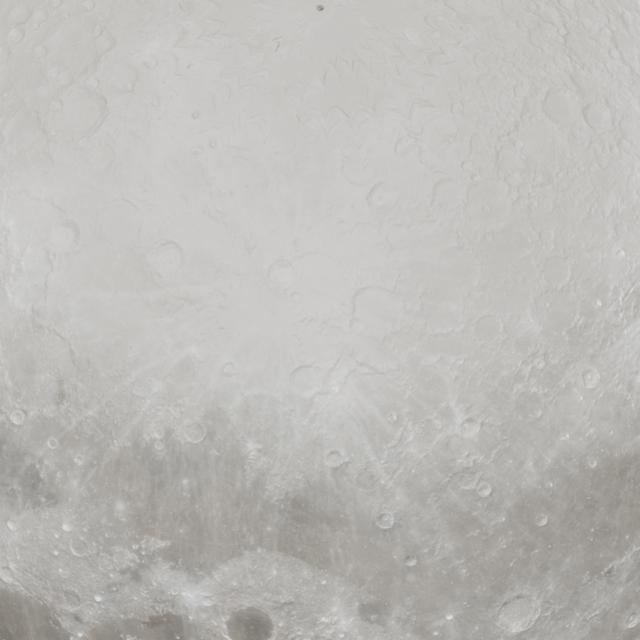crater: (539, 86, 580, 132), (493, 594, 538, 632), (146, 242, 186, 280), (288, 362, 331, 396), (227, 606, 270, 640), (581, 100, 616, 138), (541, 256, 575, 292), (493, 141, 526, 178), (47, 219, 80, 252), (427, 177, 459, 209), (266, 260, 296, 290), (365, 181, 395, 210), (472, 312, 502, 339), (393, 133, 421, 159), (131, 377, 156, 399), (183, 422, 207, 444), (458, 417, 481, 438), (324, 449, 347, 469), (459, 472, 483, 490), (420, 417, 441, 437), (68, 538, 89, 558), (375, 511, 396, 530), (594, 150, 613, 170), (7, 26, 26, 46), (582, 368, 600, 388), (8, 408, 28, 426), (348, 316, 367, 334), (45, 64, 62, 82), (512, 379, 530, 396), (63, 590, 82, 606), (140, 54, 158, 70), (85, 74, 102, 90), (527, 406, 544, 422), (30, 8, 47, 24), (32, 43, 48, 59), (48, 97, 64, 113), (476, 482, 492, 498), (42, 403, 58, 419), (221, 362, 237, 376), (460, 159, 476, 173), (404, 554, 419, 568), (470, 170, 484, 183), (534, 514, 548, 527), (80, 1, 96, 12), (73, 454, 86, 467), (46, 436, 59, 449), (153, 439, 166, 452), (7, 518, 20, 531), (60, 521, 74, 533), (386, 411, 398, 423), (167, 586, 181, 596), (586, 458, 598, 469), (190, 110, 202, 121), (207, 138, 218, 150), (615, 248, 626, 259), (480, 204, 491, 214), (593, 298, 603, 308), (546, 480, 554, 490)
rock: (531, 172, 546, 187)
